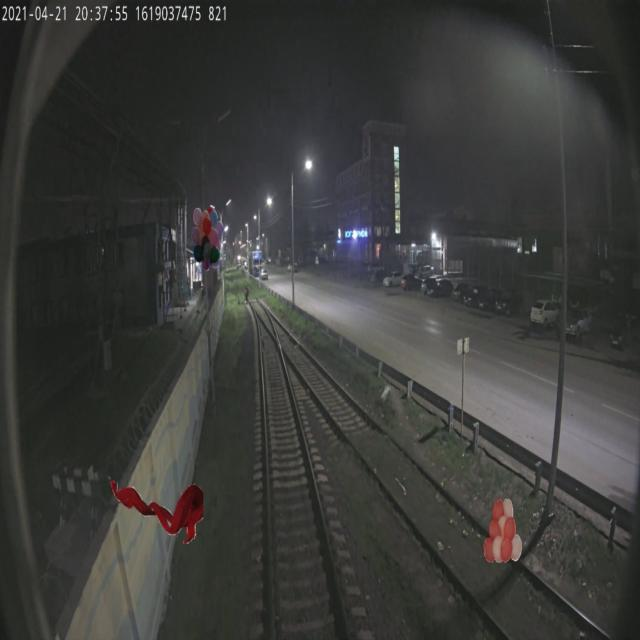balloon: (483, 498, 522, 562), (191, 207, 224, 271)
floating object: (109, 479, 203, 544)
